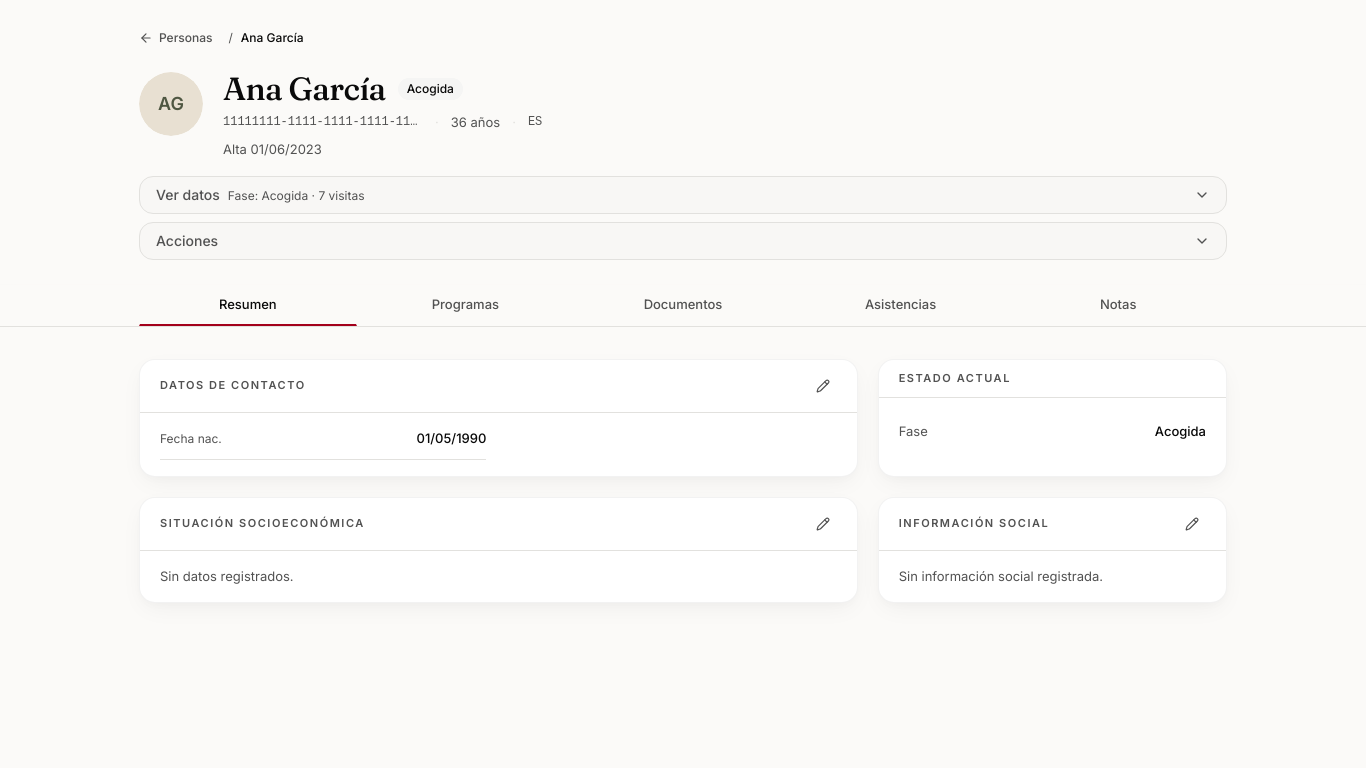
Test: Editar ficha — candado Art. 9 › la declaración de consentimiento sólo aparece al abrir el candado
Click the button "Acciones": [187, 240] box [139,222,1227,260]
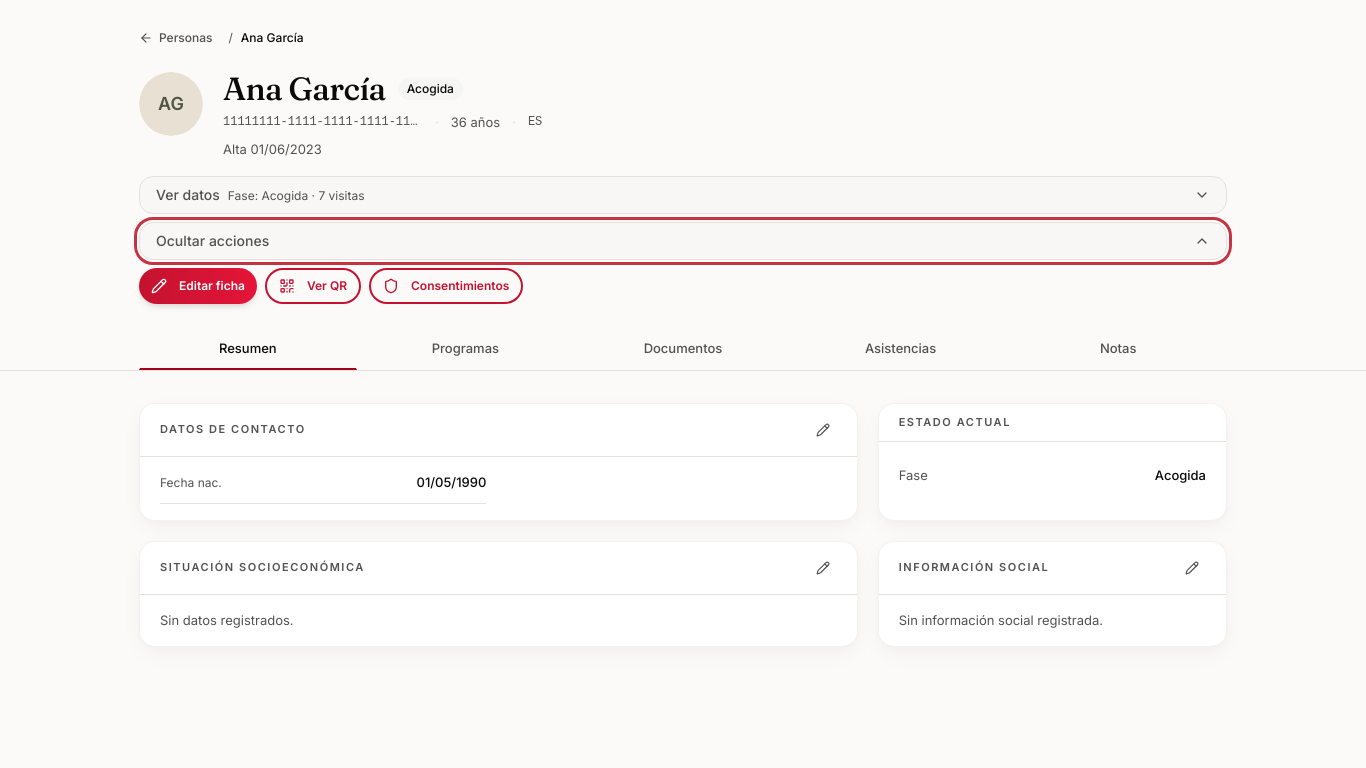
Click the button "Editar ficha": [198, 286] box [139,268,257,304]
(page scrolled)
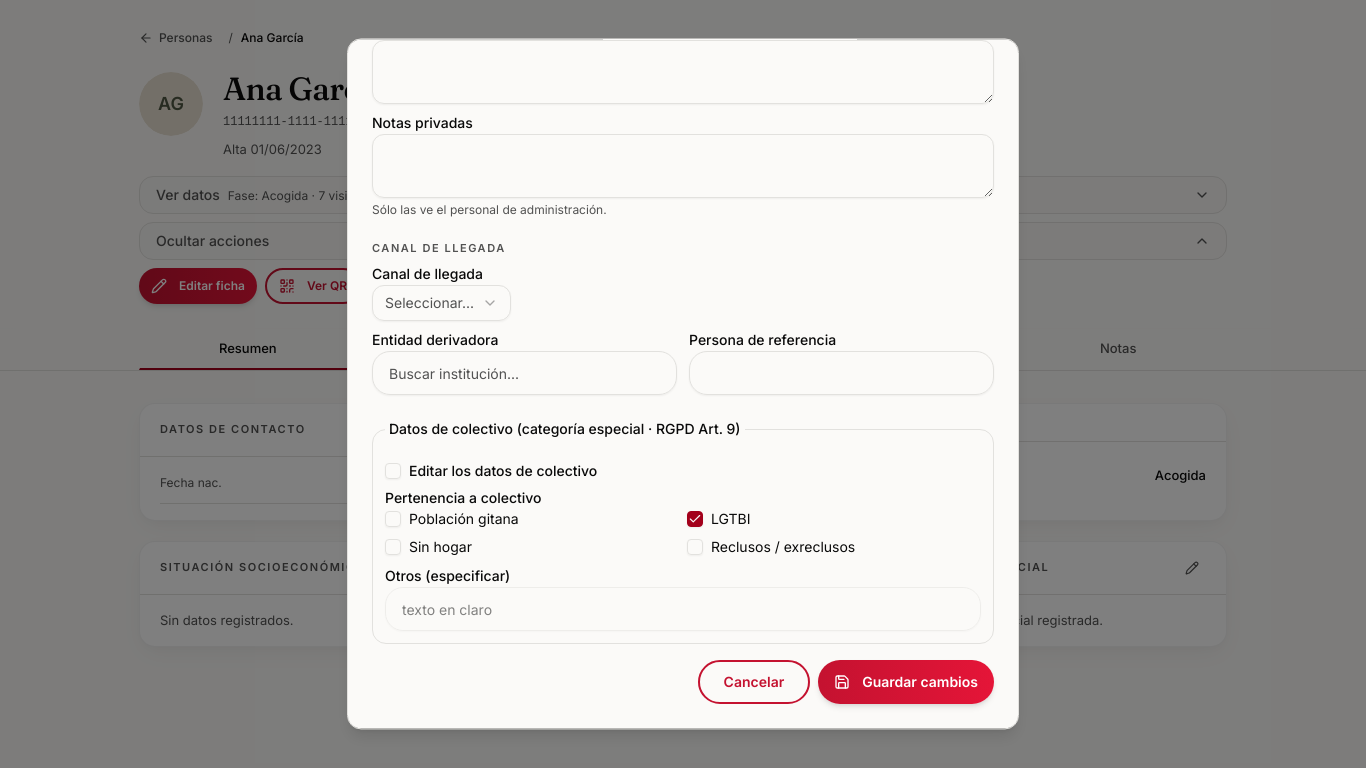
Expected: the field labelled "consiente explícitamente" is not shown
Click the checkbox named "Editar los datos de colectivo" next to "Editar los datos de colectivo": [393, 472] box [385,464,401,480]
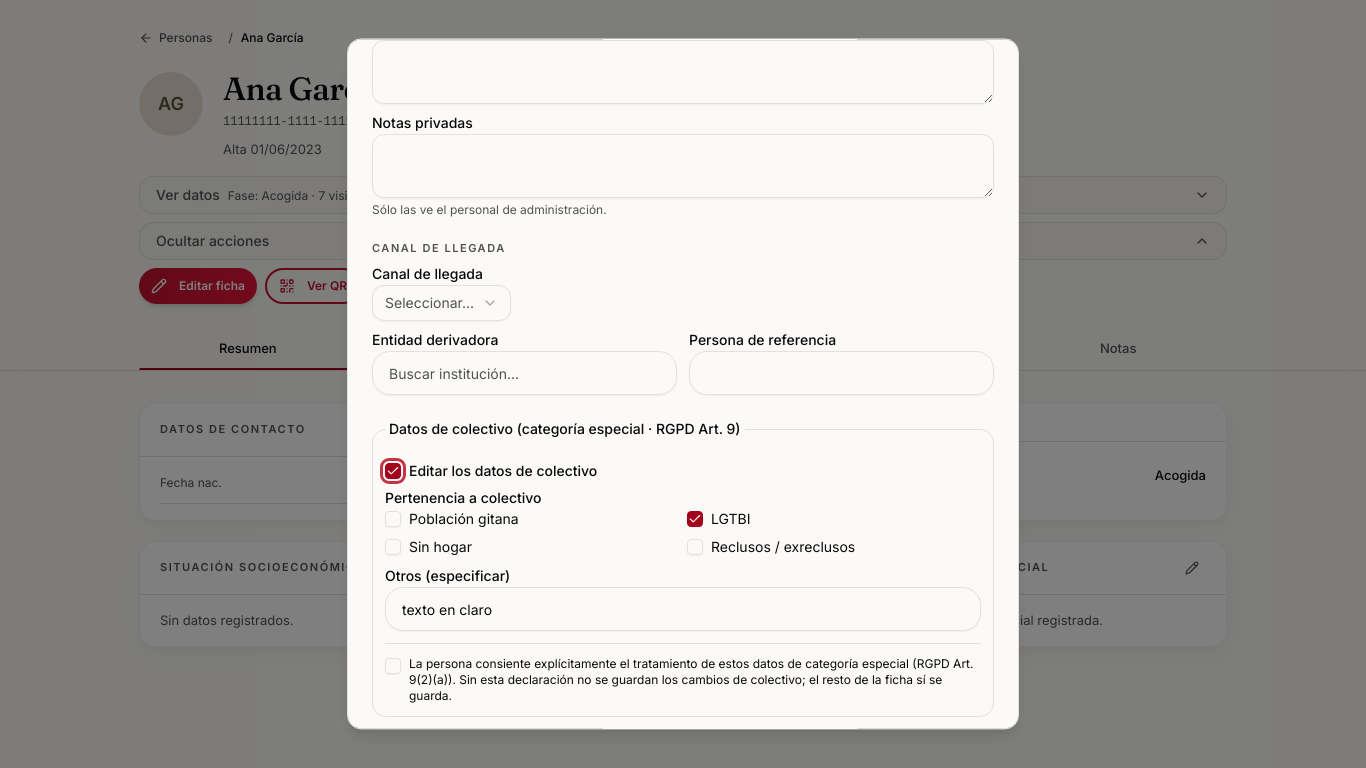
Now the 6th checkbox named "consiente explícitamente" is shown, box [385,659,401,675]
